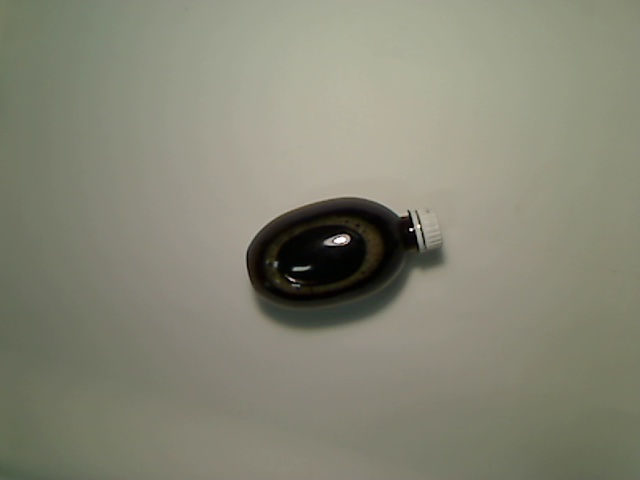plast_bottle: (243, 195, 447, 313)
